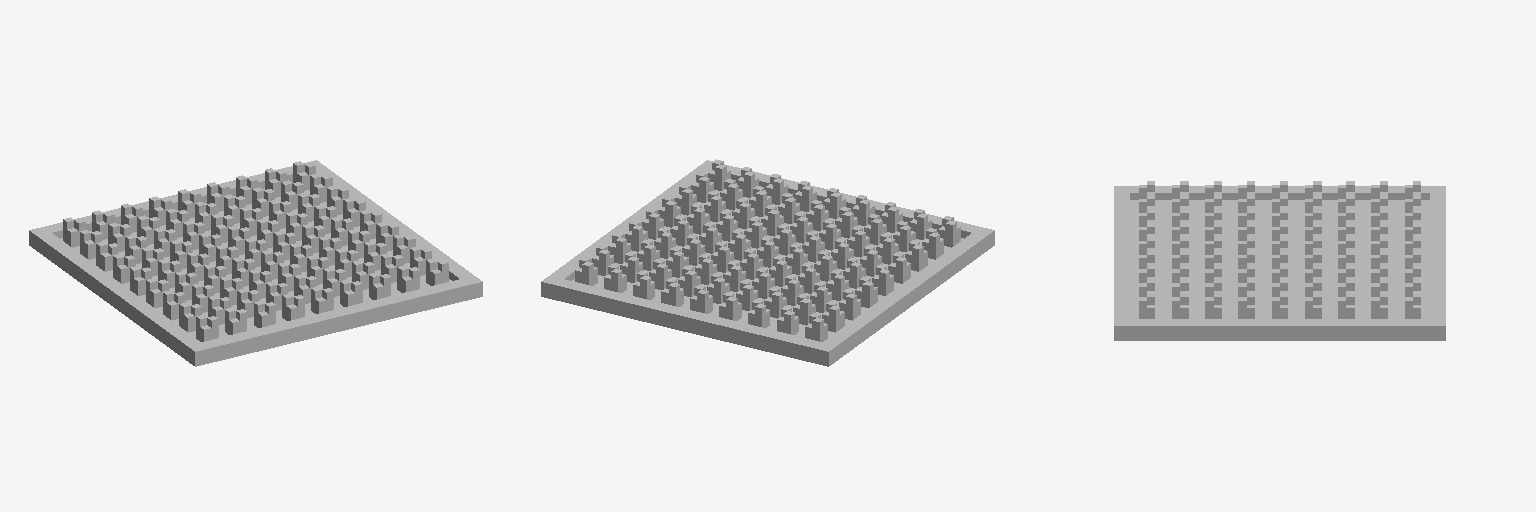
The model's file is hazard floor.obj.
3 renders of one model, left to right at view 1: azimuth 30°, elevation 25°; view 2: azimuth 150°, elevation 25°; view 3: azimuth 270°, elevation 25°, orthographic.
Parts seen in each view (by area): view 1: object 1; view 2: object 1; view 3: object 1.
Part boxes in pixels (left/top/right/bottom): object 1: left=29, top=160, right=482, bottom=366; object 1: left=541, top=159, right=994, bottom=366; object 1: left=1114, top=181, right=1445, bottom=340.
Bounding box in the file's own units: 4 × 0.4 × 4.